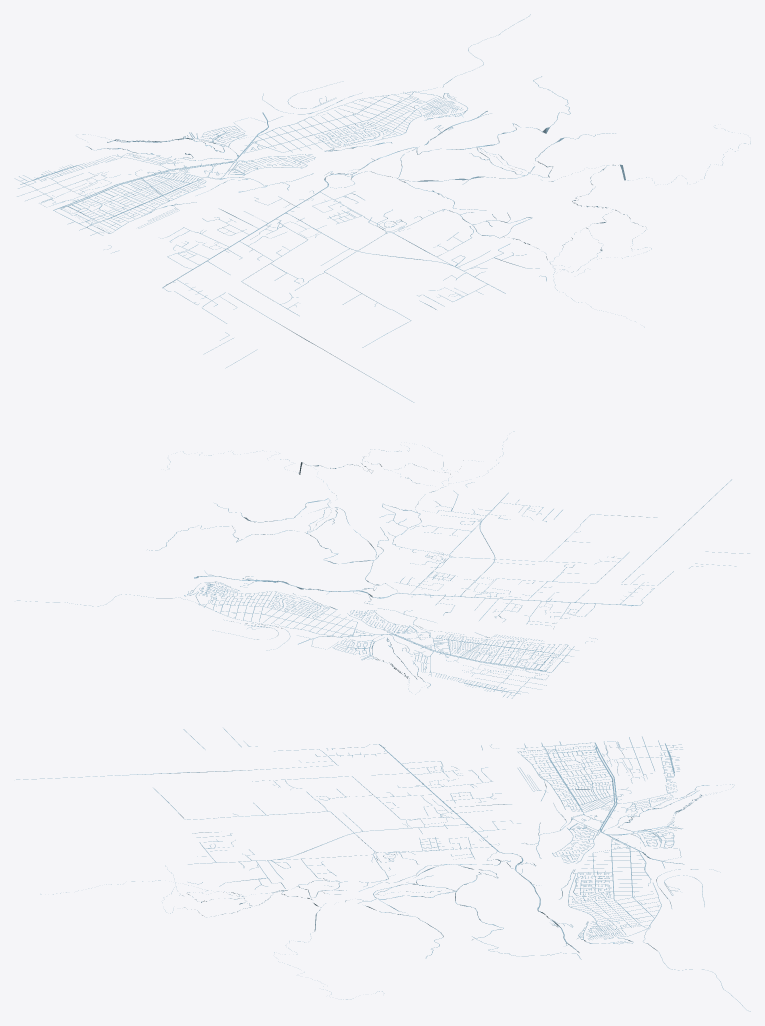
File: roads.glb
3 views of the same model, one above another, from view 1: azimuth 30°, elevation 25°; view 2: azimuth 150°, elevation 25°; view 3: azimuth 270°, elevation 25° (orthographic). The views are drawn at different scales.
Visible parts, largest first — view 1: roads; view 2: roads; view 3: roads.
Part boxes in pixels (x1,y1,x2,y2): roads: (14,14,750,402); roads: (17,431,749,698); roads: (16,728,750,1011).
Bounding box in the file's own units: 7939 × 555 × 8253.
